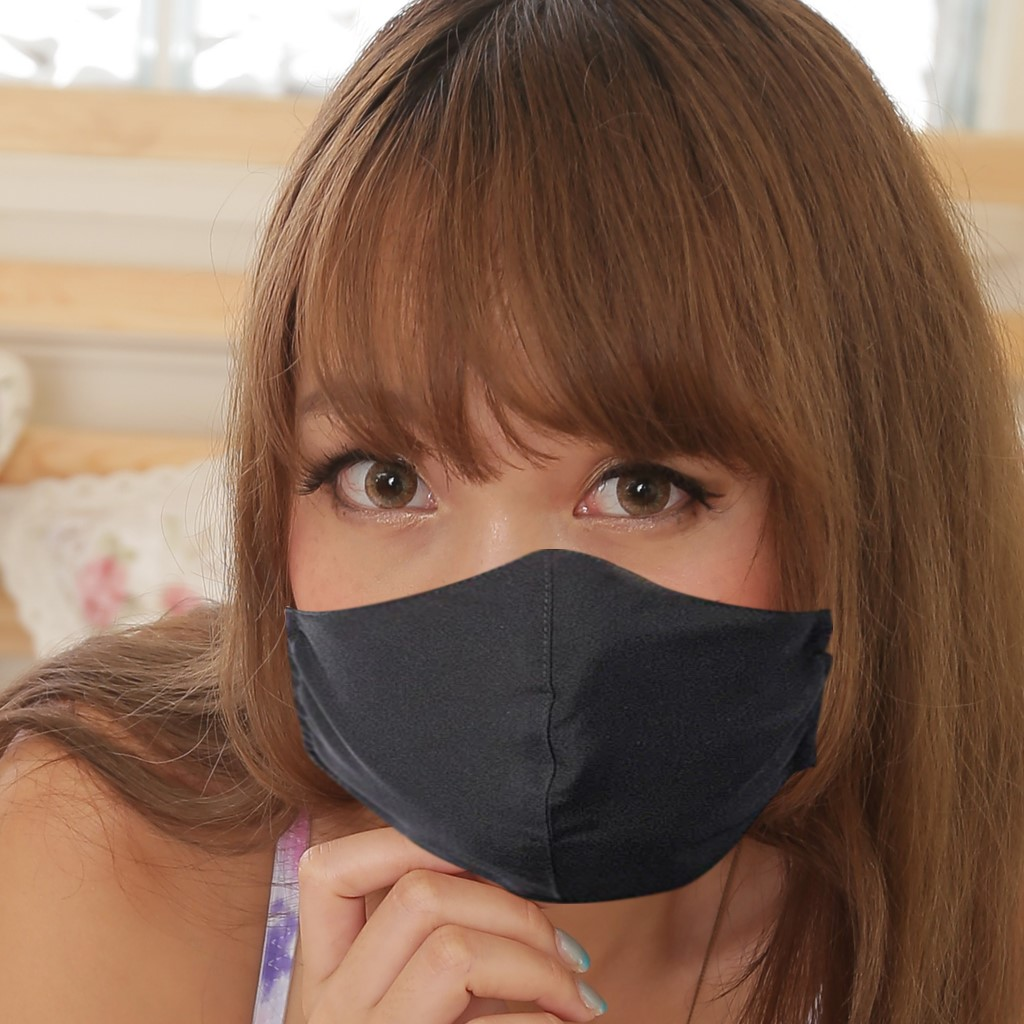con_mascara: (266, 277, 816, 892)
